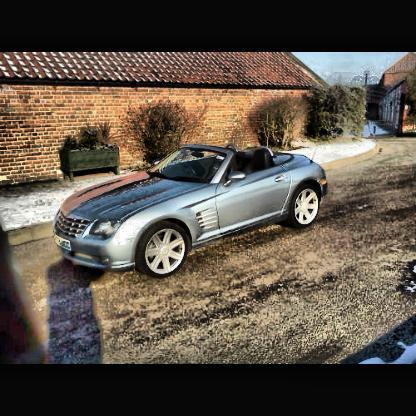Chrysler Crossfire Convertible 2008: (54, 144, 329, 281)
